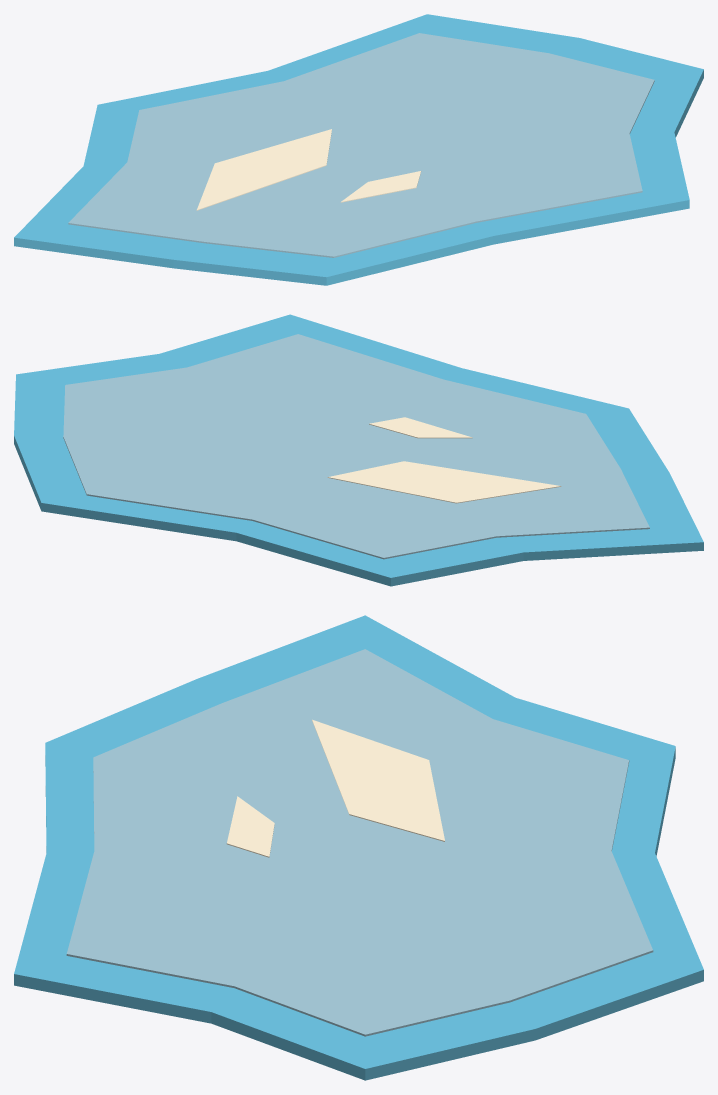
The model's file is 02-water-puddle.glb.
The picture shows the model from 3 angles, top to bottom: view 1: azimuth 30°, elevation 25°; view 2: azimuth 150°, elevation 25°; view 3: azimuth 270°, elevation 25°; orthographic projection. The views are drawn at different scales.
Visible parts, largest first — view 1: 02-water-puddle__WaterInterior, 02-water-puddle__WaterOutline, 02-water-puddle__ReflectionLarge, 02-water-puddle__ReflectionSmall; view 2: 02-water-puddle__WaterInterior, 02-water-puddle__WaterOutline, 02-water-puddle__ReflectionLarge, 02-water-puddle__ReflectionSmall; view 3: 02-water-puddle__WaterInterior, 02-water-puddle__WaterOutline, 02-water-puddle__ReflectionLarge, 02-water-puddle__ReflectionSmall.
Part boxes in pixels (x1,y1,x2,y2): 02-water-puddle__WaterInterior: (68,33,654,257); 02-water-puddle__WaterOutline: (14,14,703,285); 02-water-puddle__ReflectionLarge: (196,129,331,210); 02-water-puddle__ReflectionSmall: (340,171,421,202); 02-water-puddle__WaterInterior: (63,334,649,559); 02-water-puddle__WaterOutline: (14,314,703,586); 02-water-puddle__ReflectionLarge: (327,461,561,503); 02-water-puddle__ReflectionSmall: (369,417,472,438); 02-water-puddle__WaterInterior: (66,649,653,1036); 02-water-puddle__WaterOutline: (14,615,703,1080); 02-water-puddle__ReflectionLarge: (312,719,444,841); 02-water-puddle__ReflectionSmall: (226,796,274,857).
Size of the model in its own units: 1.01 by 0.015 by 0.6478.
